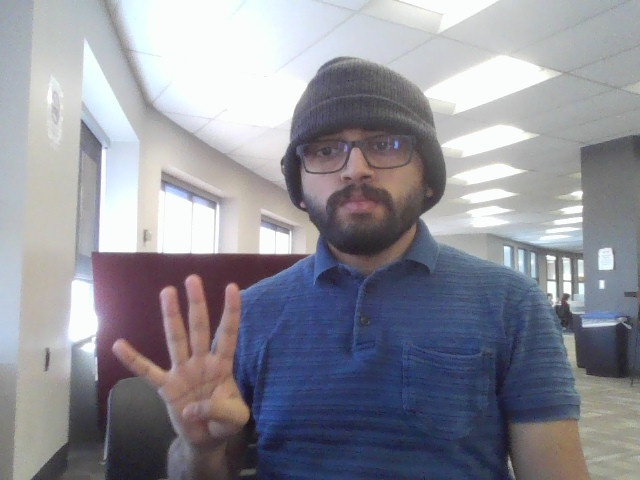start: (106, 273, 286, 453)
